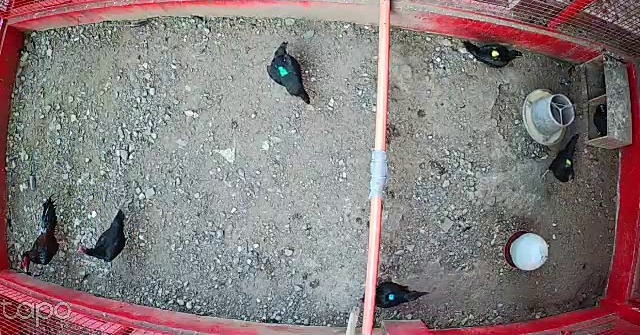Chicken: (265, 38, 314, 106), (80, 210, 134, 263), (354, 274, 427, 313), (536, 133, 583, 187), (462, 33, 524, 70)
Rooster: (20, 195, 74, 275)
Saddle_Color_Blue: (386, 294, 396, 301)
Saddle_Color_Yellow: (489, 49, 500, 58)
Saddle_Color_YellowGreen: (564, 159, 572, 168)
